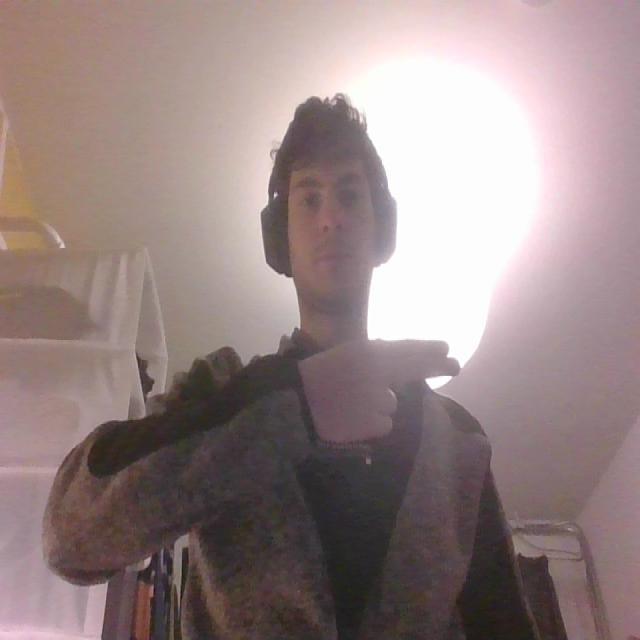right: (295, 326, 460, 440)
